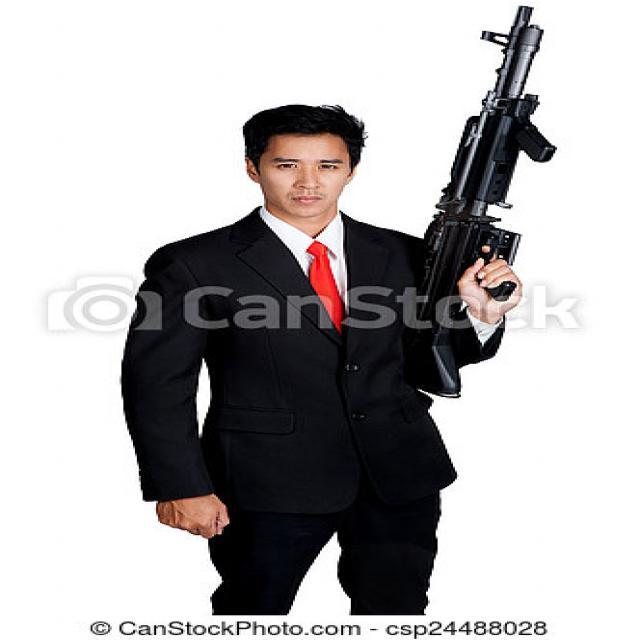weapon: (418, 6, 562, 401)
